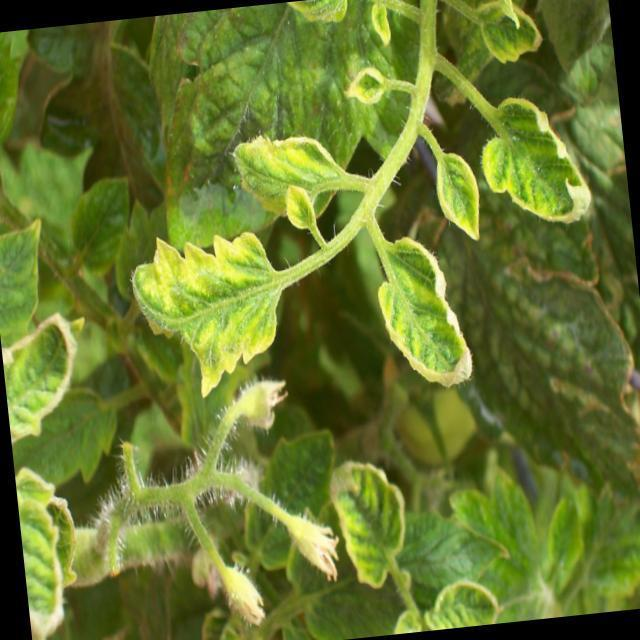Yellow Curl Virus: (124, 225, 298, 408), (370, 230, 480, 390), (472, 89, 594, 231), (319, 444, 413, 601), (0, 308, 83, 445), (225, 125, 344, 216), (17, 492, 76, 640), (428, 144, 486, 246), (478, 0, 547, 67), (419, 580, 506, 630), (336, 58, 394, 114)
